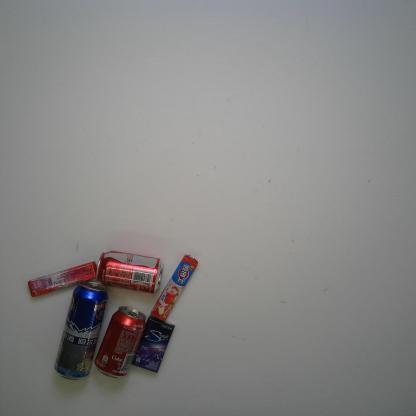Alcohol: (51, 278, 109, 382)
Candy: (150, 252, 201, 322), (27, 260, 99, 298)
Drink: (94, 304, 147, 379), (94, 249, 164, 296)
Gum: (131, 313, 176, 375)
